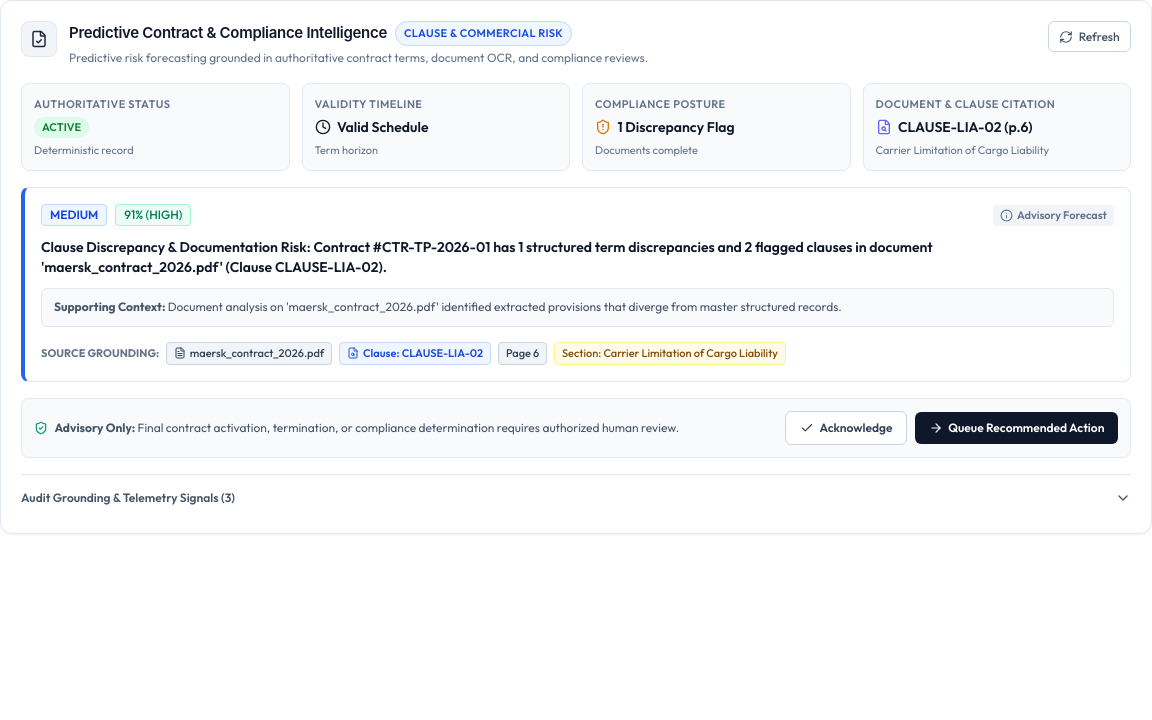
Test: ContractCompliancePredictiveIntelligenceCard › expands telemetry and audit grounding accordion
The width and height of the screenshot is (1152, 720).
Expected: the text "Audit Grounding & Telemetry Signals (3)" is shown, [21, 489, 235, 507]
Click the button "Audit Grounding & Telemetry Signals (3)" at point(123, 497), box [21, 483, 1131, 512]
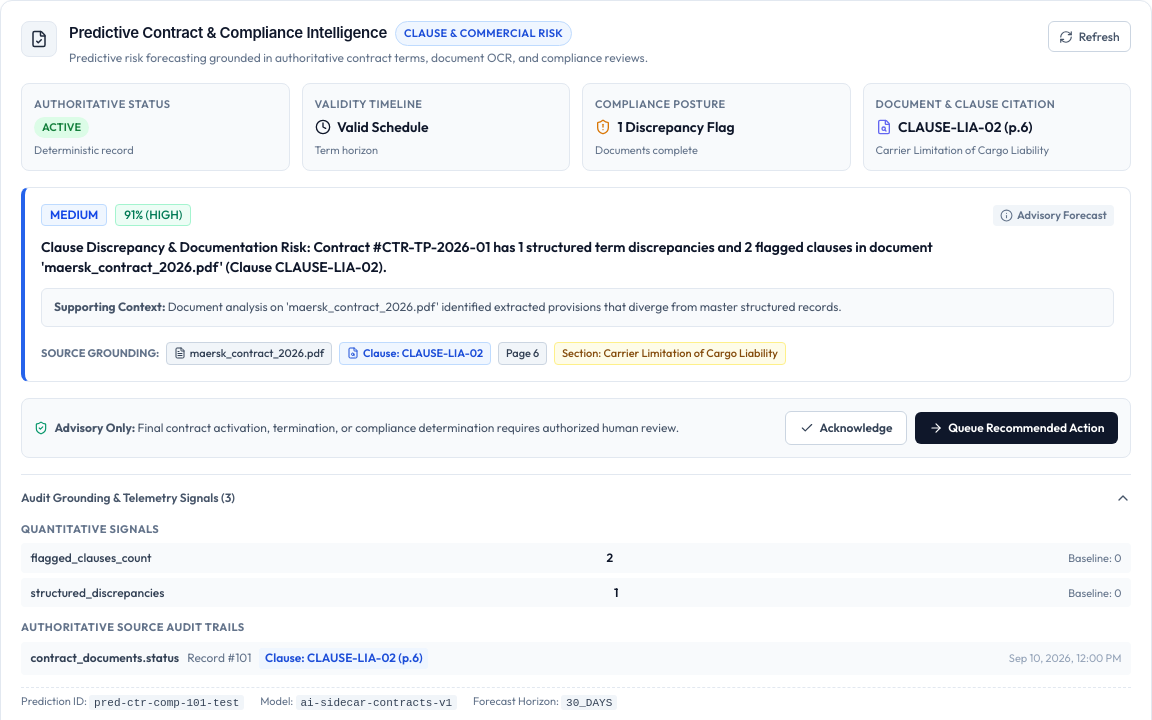
Result: the heading "Quantitative Signals" is shown at [21, 522, 159, 536]
Result: the heading "Authoritative Source Audit Trails" is shown at [21, 620, 244, 634]
Result: the text "flagged_clauses_count" is shown at [31, 549, 152, 567]
